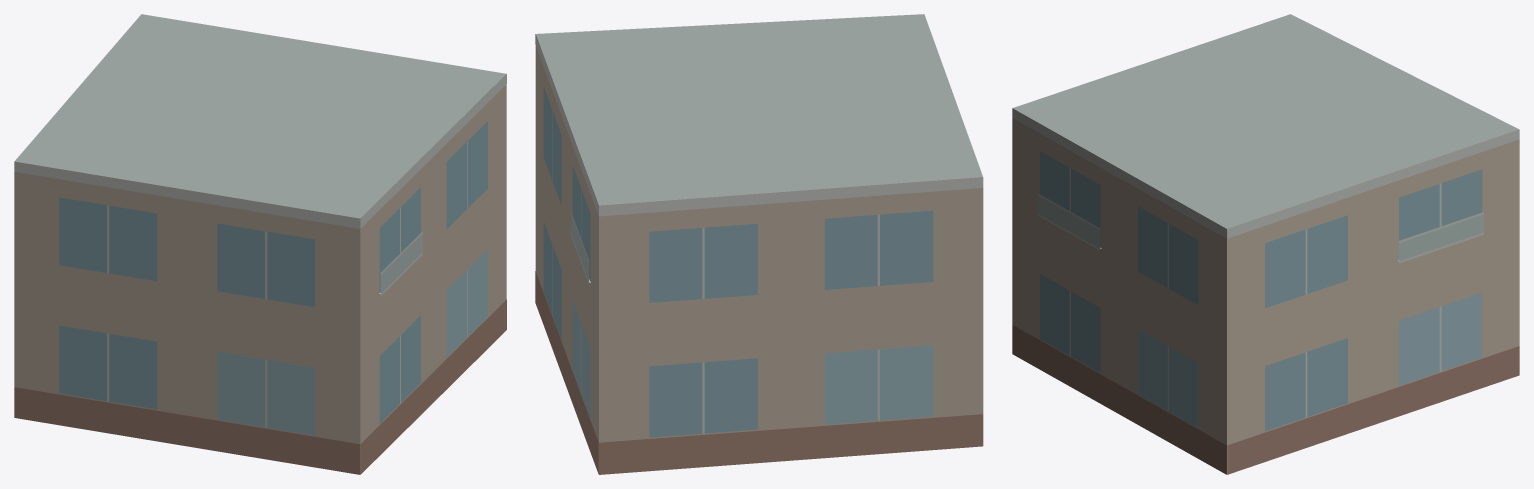
Rendered from survey-upis-32731321.glb.
3 views of the same model, side by side, from view 1: azimuth 30°, elevation 25°; view 2: azimuth 150°, elevation 25°; view 3: azimuth 270°, elevation 25° (orthographic). The views are drawn at different scales.
Visible parts, largest first — view 1: survey-upis-32731321.tmp; view 2: survey-upis-32731321.tmp; view 3: survey-upis-32731321.tmp.
Boxes of the visible parts, left/top/right/bottom form: survey-upis-32731321.tmp: left=14, top=14, right=506, bottom=474; survey-upis-32731321.tmp: left=535, top=14, right=983, bottom=474; survey-upis-32731321.tmp: left=1012, top=14, right=1519, bottom=474.
Size of the model in its own units: 11.45 by 6.1 by 11.41.
